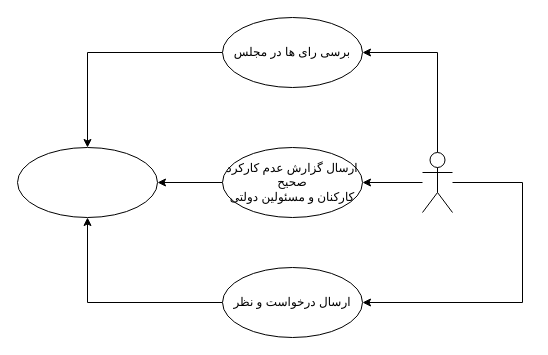
The diagram is 548 pixels wide and 355 high, and some of its shapes have lost their labels. Here are the shapes that lost their labels. From the top down, the centre of each, then its label:
point (87, 182): Core
point (437, 182): user
